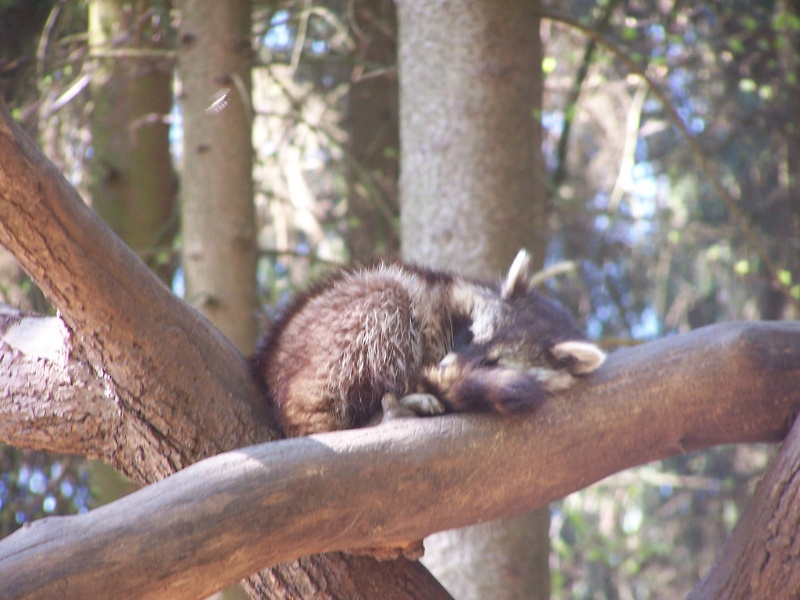raccoon: (257, 246, 607, 457)
